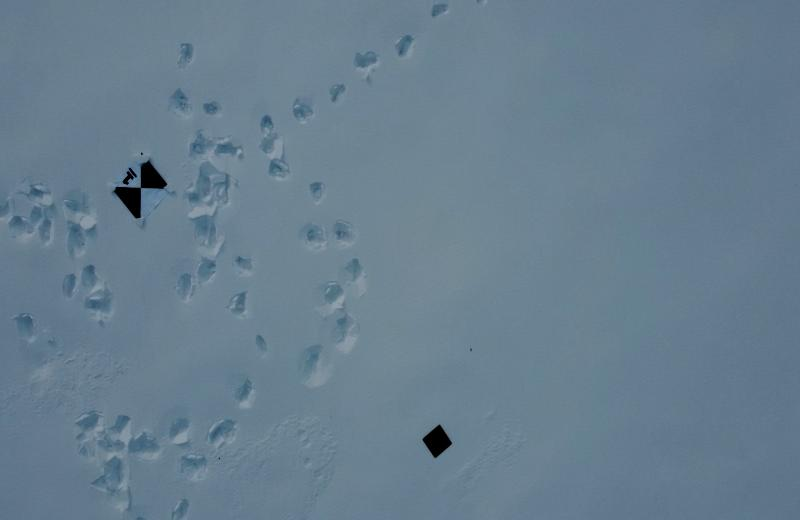Square: (422, 422, 454, 460)
